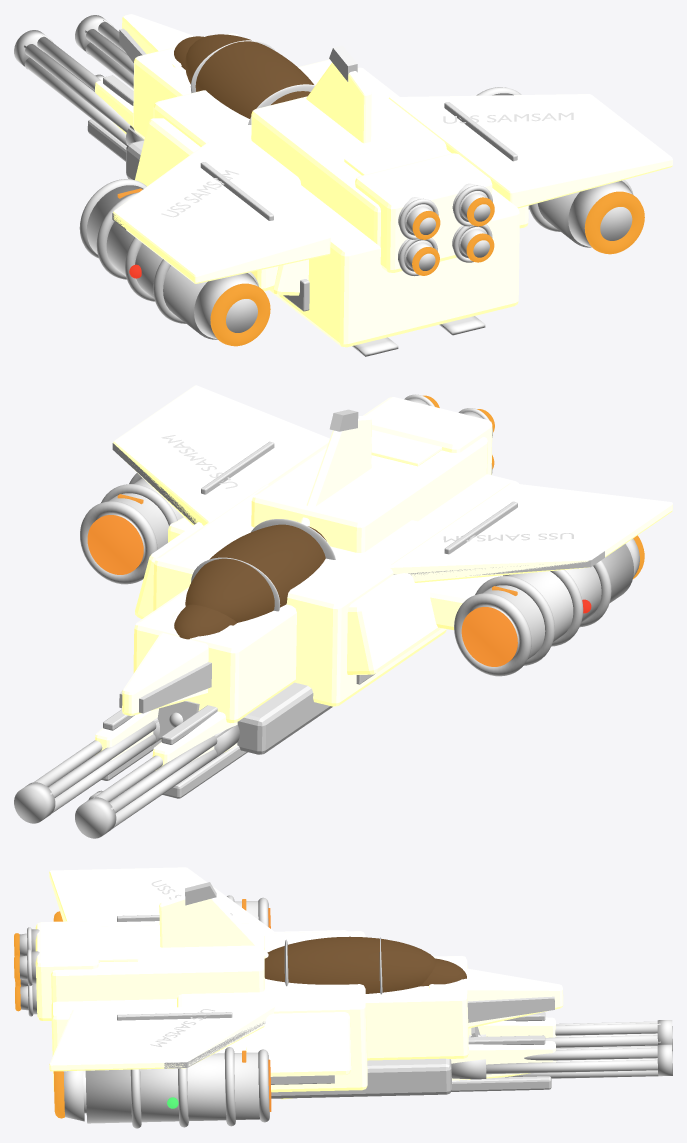
The model's file is uss-samsam.glb.
3 views of the same model, one above another, from view 1: azimuth 30°, elevation 25°; view 2: azimuth 150°, elevation 25°; view 3: azimuth 270°, elevation 25° (orthographic). The views are drawn at different scales.
Parts seen in each view (by area): view 1: CoreRear, WingR, WingL, DorsalDeck, QuadBlock, Canopy, CoreMid, NacelleL, ShoulderL, DorsalFin, CoreFwd, ThrusterLBell (+25 smaller); view 2: WingL, WingR, CoreMid, DorsalDeck, CoreFwd, Canopy, ShoulderL, NacelleL, QuadBlock, NoseProw, BellyDeck, DorsalFin (+31 smaller); view 3: WingR, DorsalDeck, NacelleR, CoreFwd, Canopy, WingL, CoreMid, ShoulderR, QuadBlock, DorsalFin, BellyDeck, NoseProw (+25 smaller).
Boxes of the visible parts, <box> form: CoreRear: <box>269,185,519,347</box>; WingR: <box>389,94,672,208</box>; WingL: <box>113,142,330,283</box>; DorsalDeck: <box>251,90,451,246</box>; QuadBlock: <box>355,153,492,272</box>; Canopy: <box>185,34,313,118</box>; CoreMid: <box>153,59,446,191</box>; NacelleL: <box>86,185,258,339</box>; ShoulderL: <box>135,118,308,295</box>; DorsalFin: <box>306,62,371,143</box>; CoreFwd: <box>133,33,240,138</box>; ThrusterLBell: <box>194,273,258,339</box>; WingL: <box>389,483,672,582</box>; WingR: <box>113,385,329,525</box>; CoreMid: <box>153,484,446,706</box>; DorsalDeck: <box>251,437,487,552</box>; CoreFwd: <box>133,587,296,723</box>; Canopy: <box>185,524,326,622</box>; ShoulderL: <box>347,573,443,674</box>; NacelleL: <box>475,544,633,660</box>; QuadBlock: <box>363,397,492,474</box>; NoseProw: <box>122,612,237,715</box>; BellyDeck: <box>237,682,332,754</box>; DorsalFin: <box>300,415,371,526</box>; WingR: <box>49,1005,275,1071</box>; DorsalDeck: <box>51,922,264,1003</box>; NacelleR: <box>85,1052,259,1123</box>; CoreFwd: <box>365,956,468,1060</box>; Canopy: <box>264,936,436,993</box>; WingL: <box>49,867,274,933</box>; CoreMid: <box>177,931,367,1092</box>; ShoulderR: <box>238,1012,351,1076</box>; QuadBlock: <box>35,921,98,1020</box>; DorsalFin: <box>159,895,268,958</box>; BellyDeck: <box>271,1058,451,1098</box>; NoseProw: <box>429,968,563,1028</box>.
Bounding box in the file's own units: 4.4 × 2.07 × 6.29.
